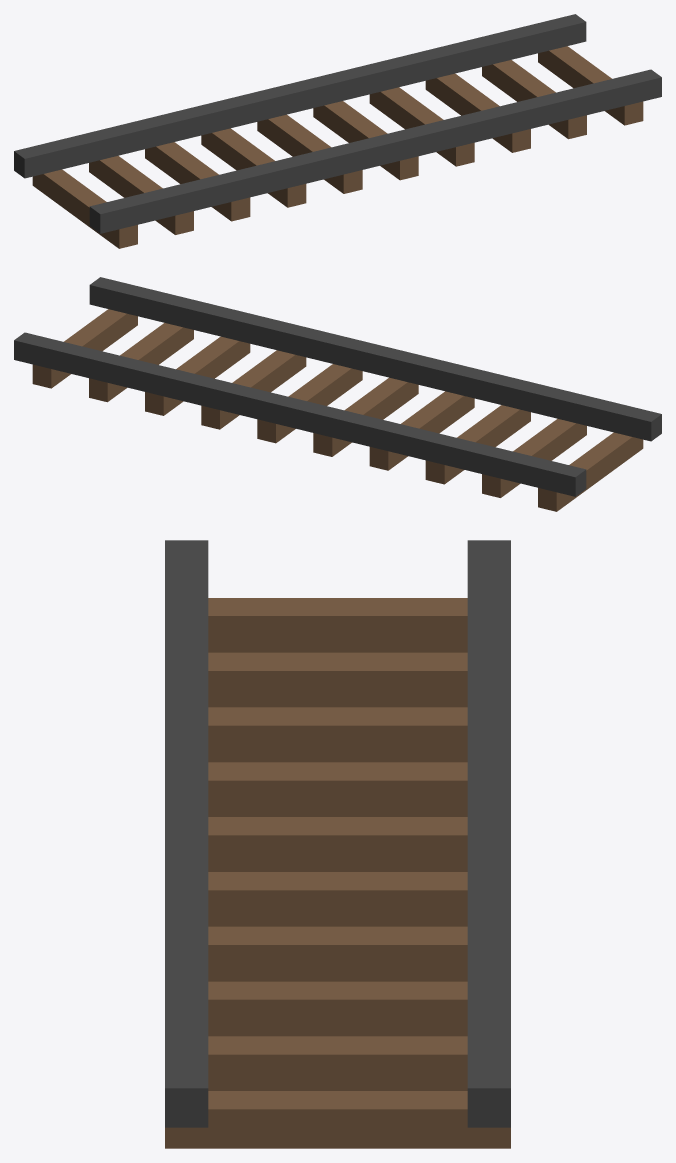
File: Track.obj
3 renders of one model, top to bottom at view 1: azimuth 30°, elevation 25°; view 2: azimuth 150°, elevation 25°; view 3: azimuth 270°, elevation 25°, orthographic. The views are drawn at different scales.
Bounding box in the file's own units: 30 × 2 × 8.
Materials: 1 (1 with a texture image).
